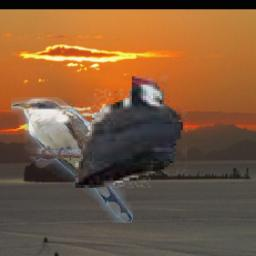Cuckoo: (11, 97, 133, 223)
Woodpecker: (75, 74, 219, 189)
